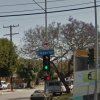Tree: (57, 15, 100, 76)
